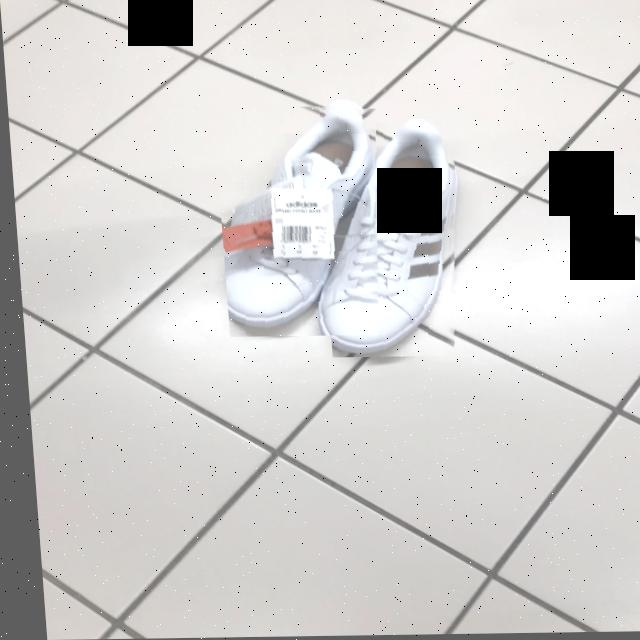shoe: (219, 107, 374, 337), (323, 123, 454, 358)
